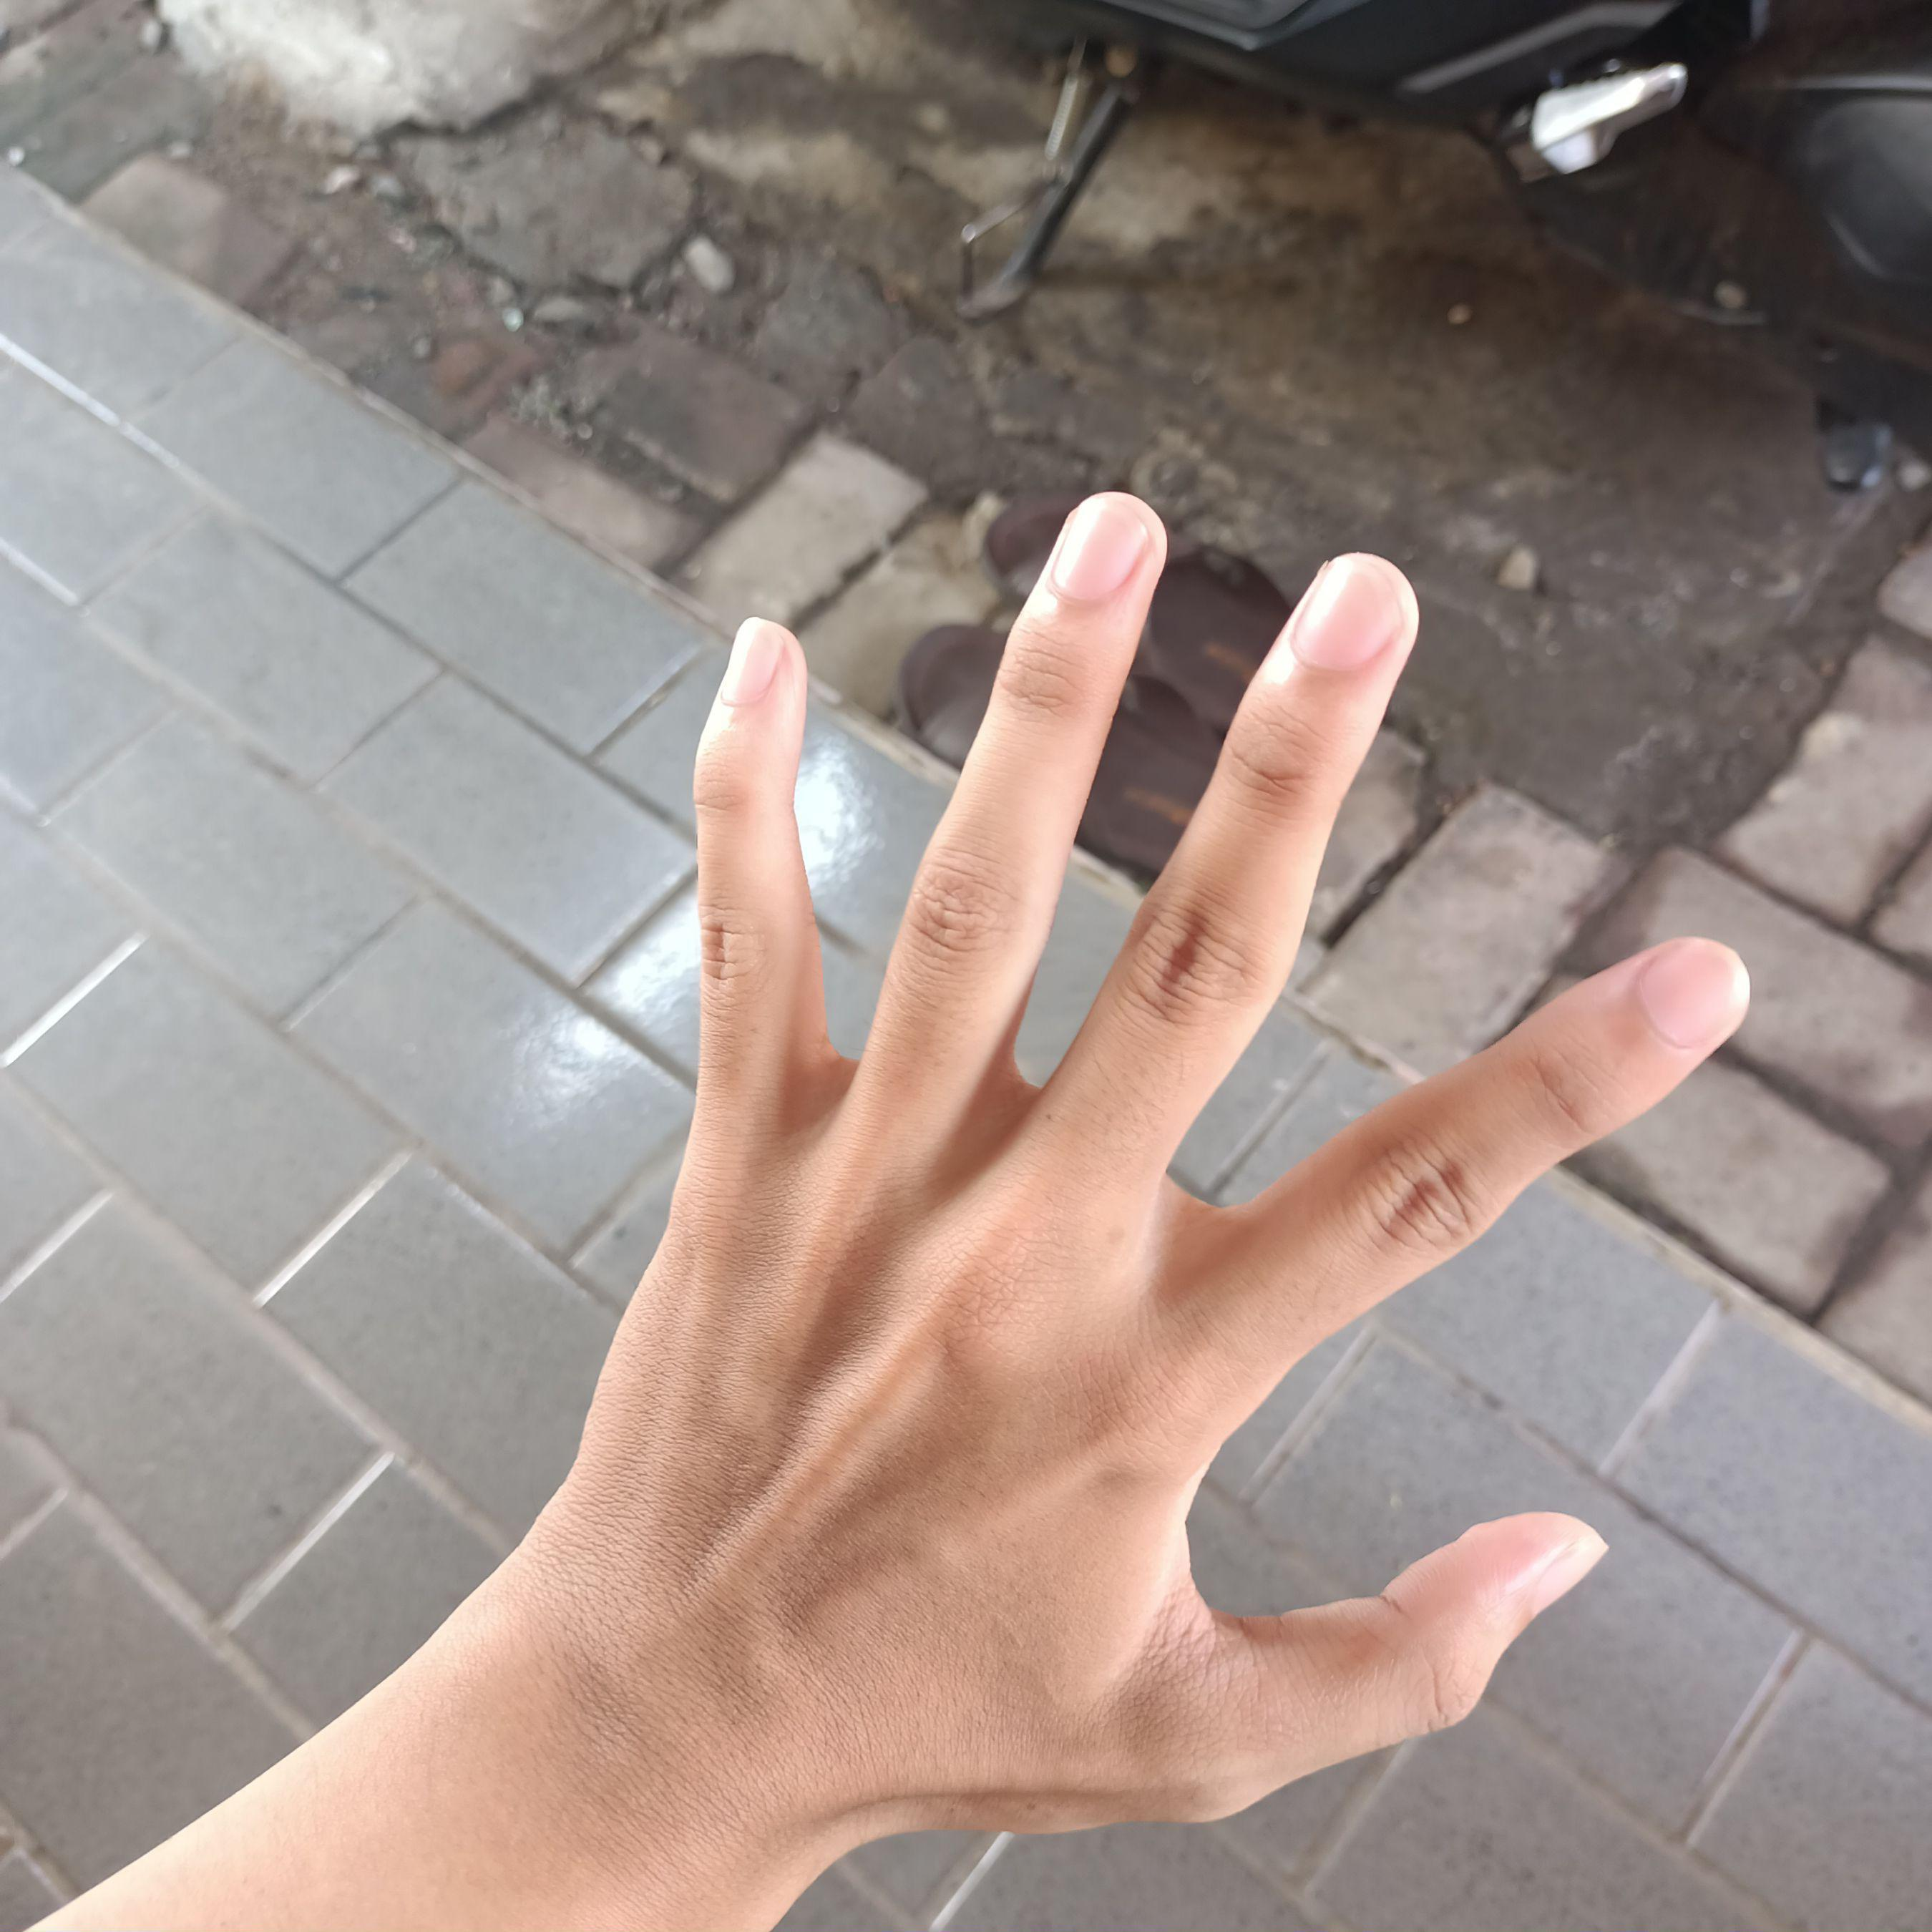paper: (492, 465, 1775, 1872)
